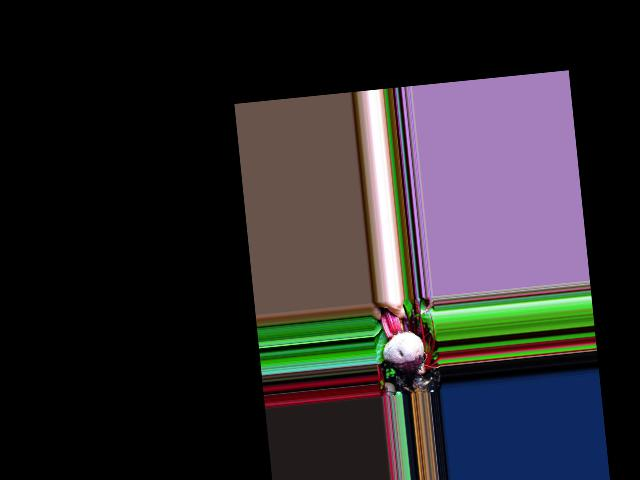beet: (378, 303, 428, 397)
